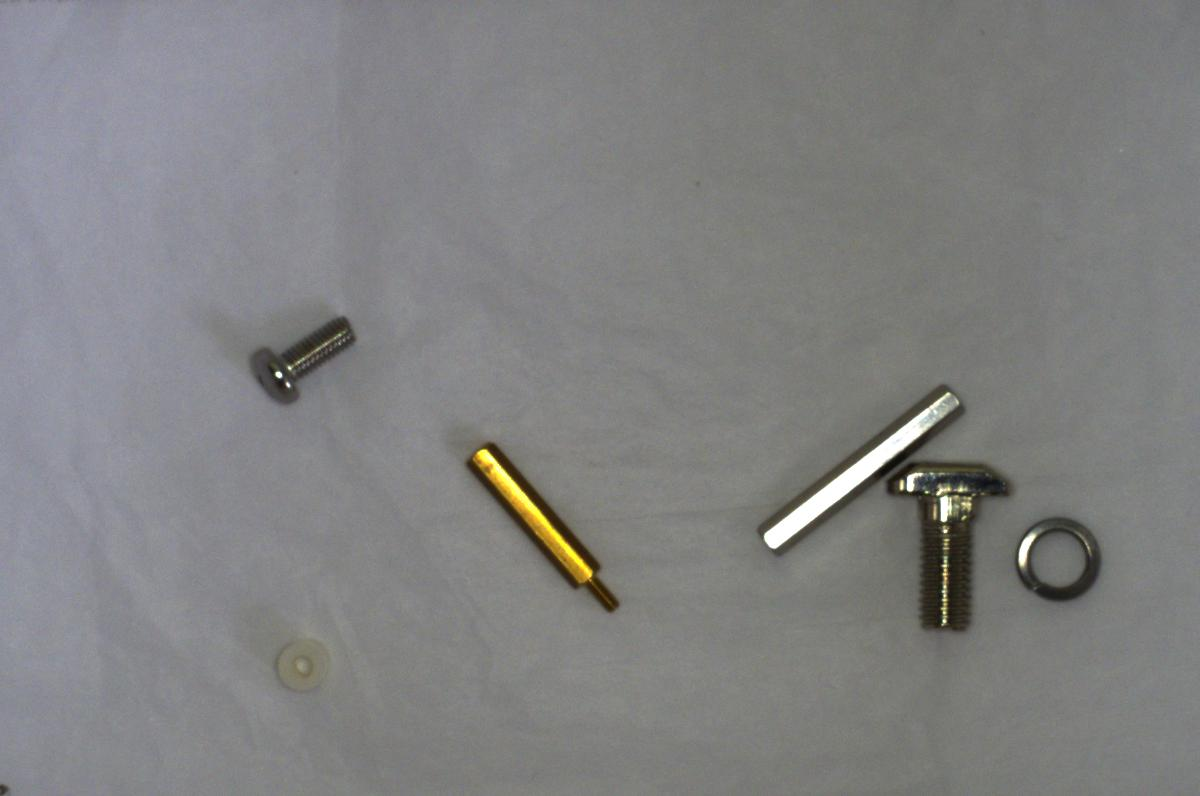Double hexagonal column: (750, 374, 971, 562)
Hexagon pillar: (468, 435, 618, 613)
Plastic cushion pillar: (260, 625, 337, 701)
Round head screw: (248, 307, 360, 409)
Spring washer: (1008, 505, 1102, 609)
